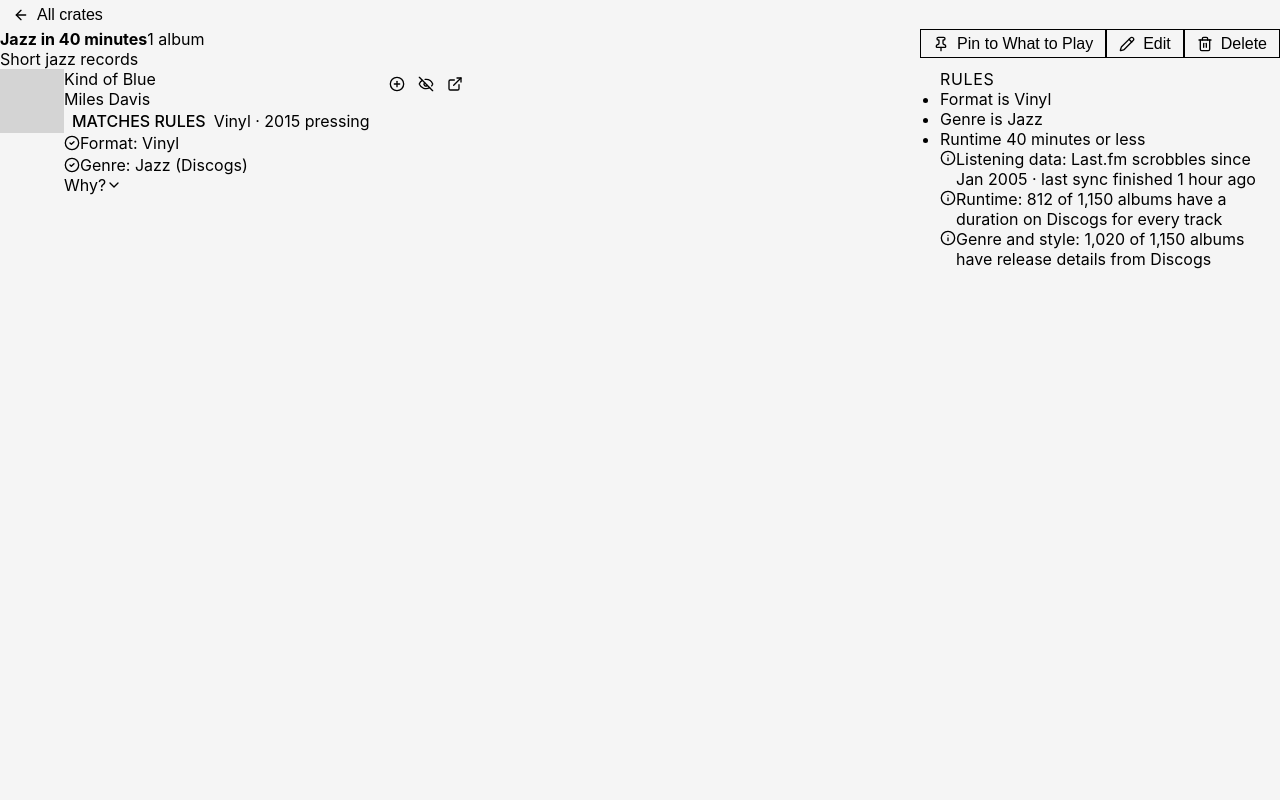
CratesPage › detail › keeps the crate when the delete is cancelled
The width and height of the screenshot is (1280, 800).
Click the button "Delete". click: [1232, 44]
box: [1184, 29, 1279, 58]
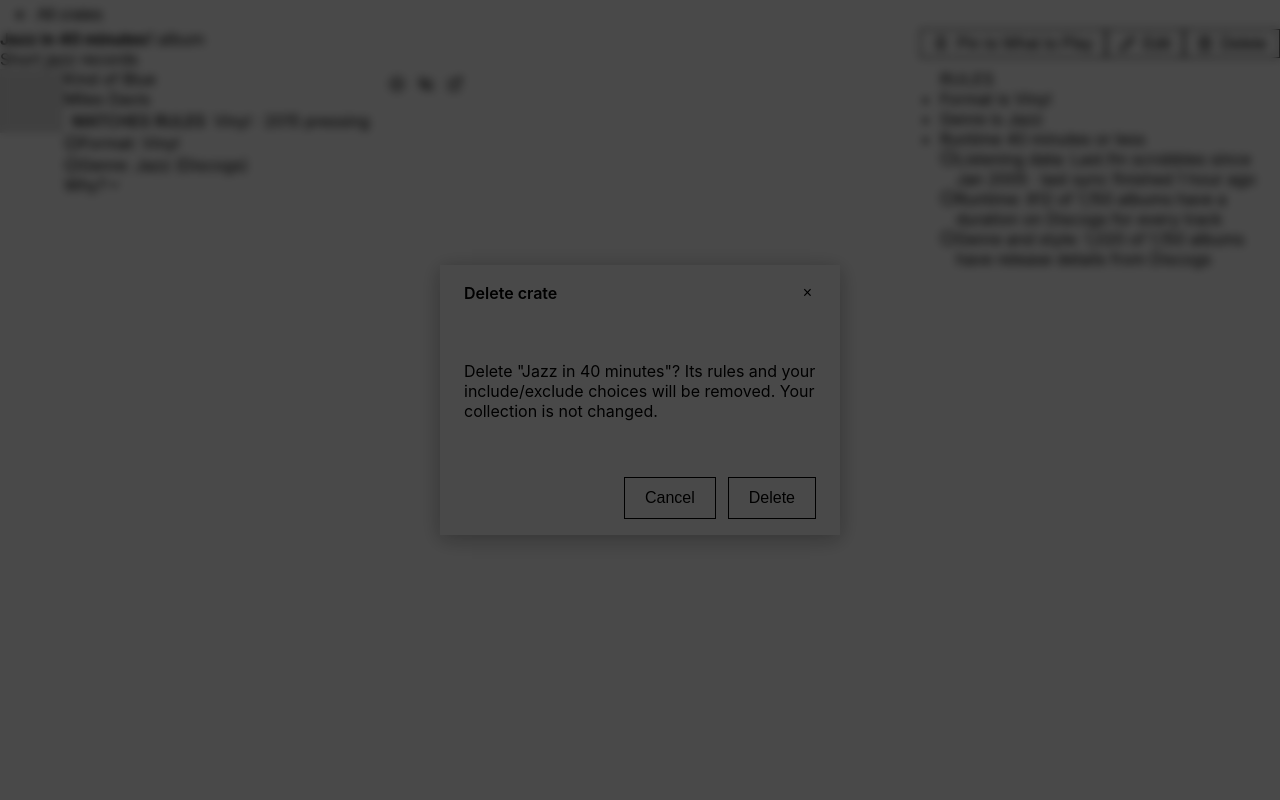
Click the button "Cancel". click: [670, 498]
box: [624, 477, 716, 519]
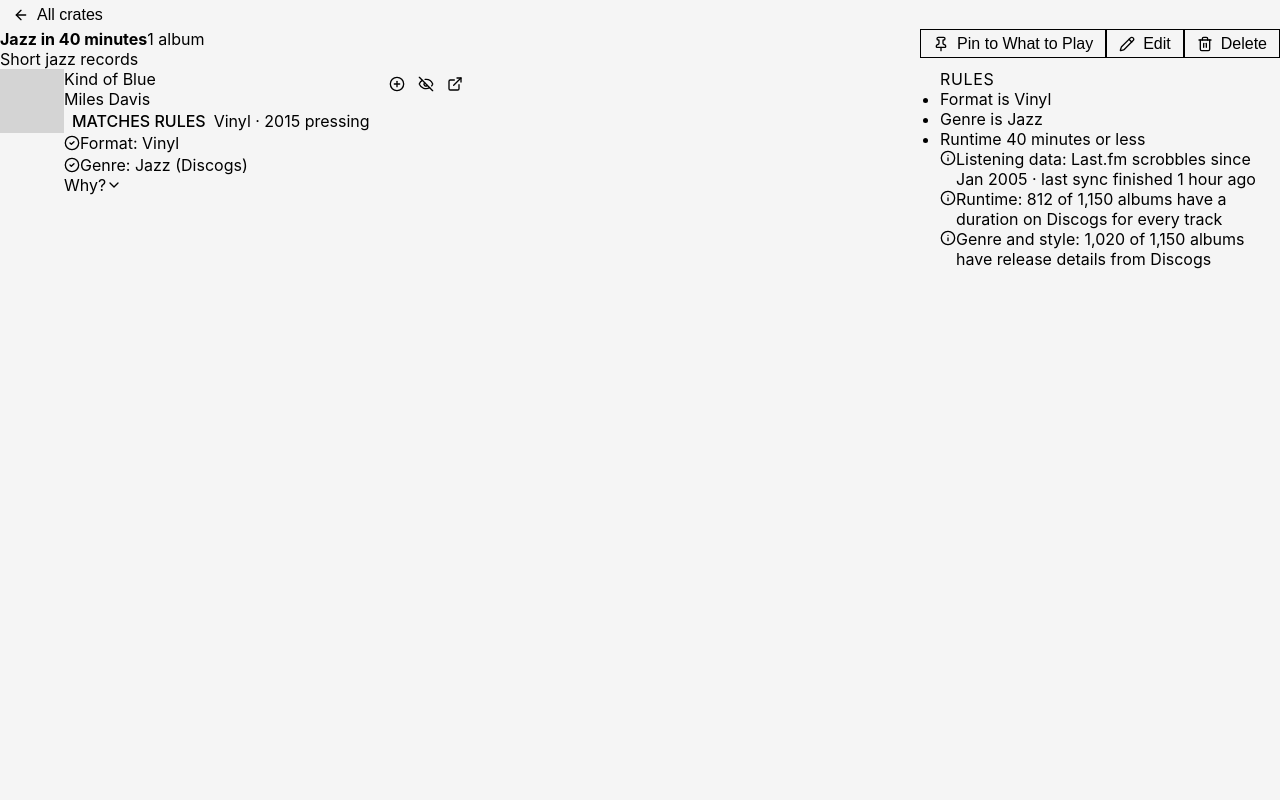
Result: the dialog is gone
